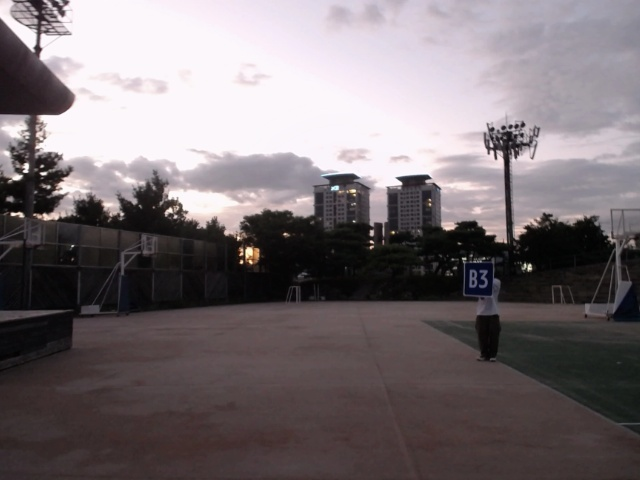delivery_b3: (464, 262, 494, 298)
